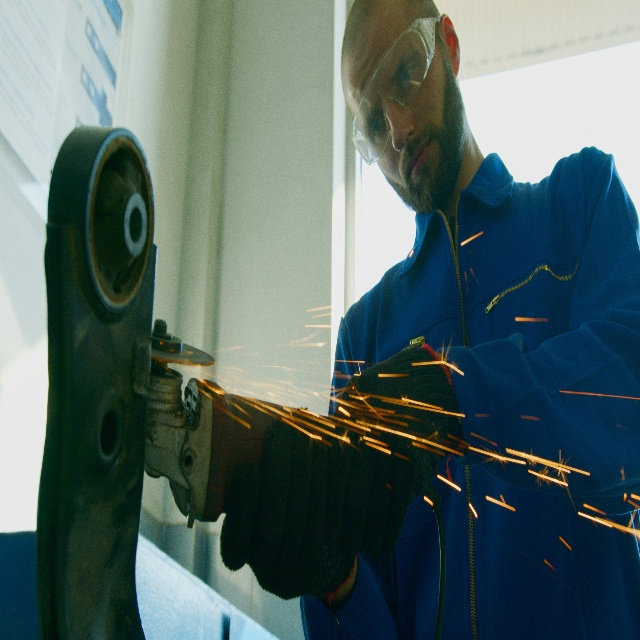Gafas: (351, 13, 440, 166)
Guantes: (331, 343, 461, 559), (219, 421, 373, 603)
